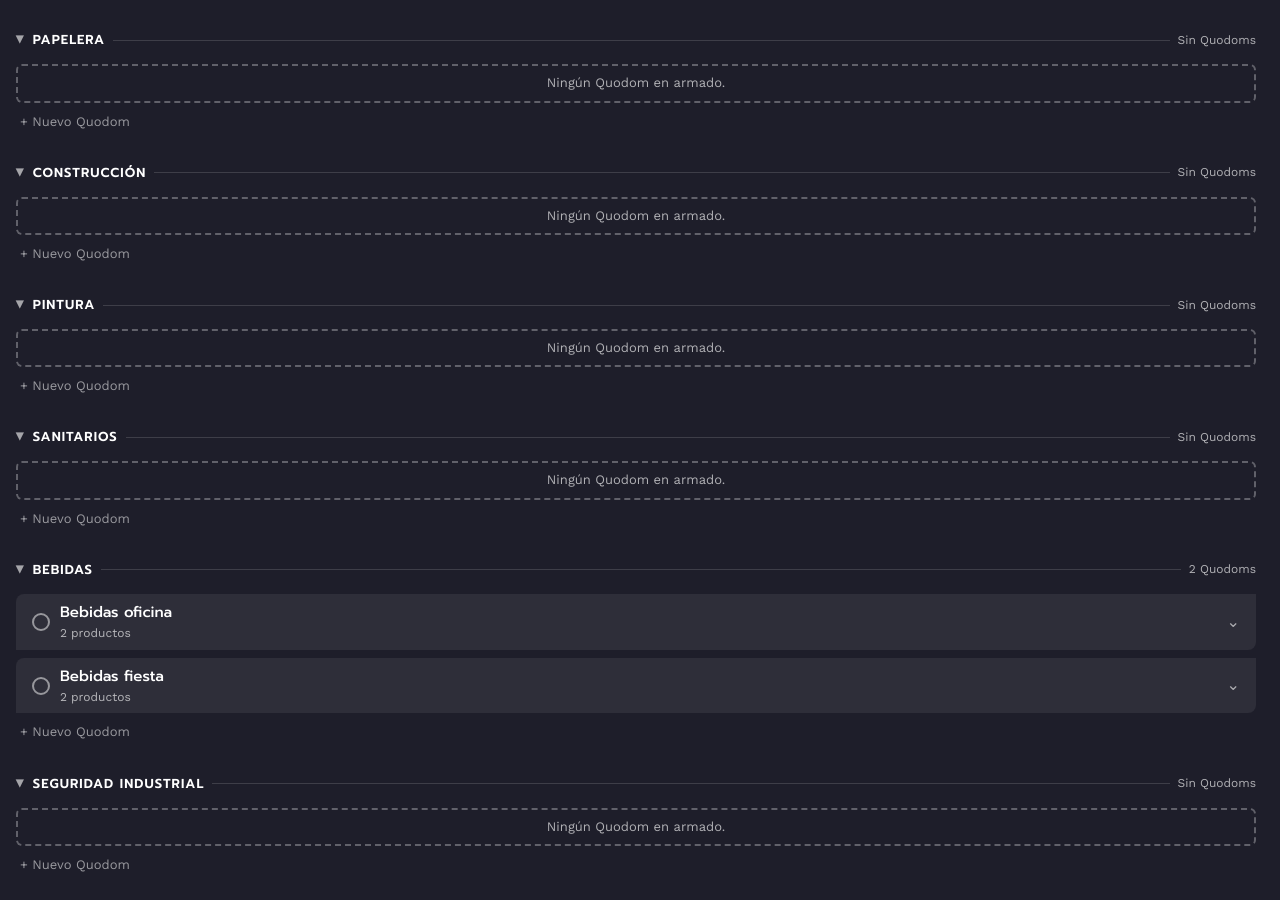
Test: sidebar: mini editor › abrir otro del mismo rubro cierra el anterior: cada rubro tiene un solo abierto
(page scrolled)
Step 1. Click the text "Bebidas oficina" → (116, 612), box [60,601,172,623]
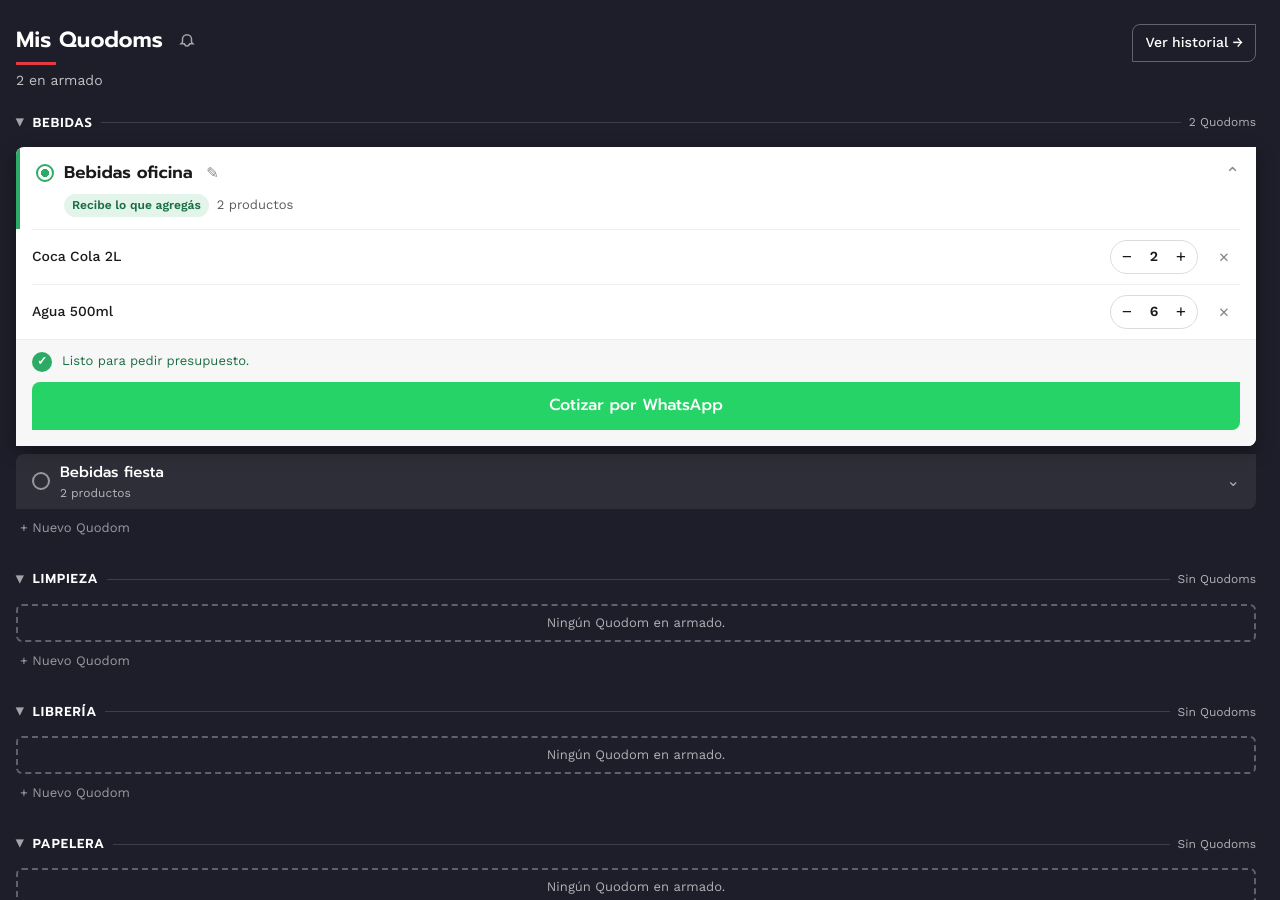
Result: the text "Coca Cola 2L" is shown at [32,248,121,266]
Step 2. Click the text "Bebidas fiesta" → (112, 472), box [60,461,164,483]
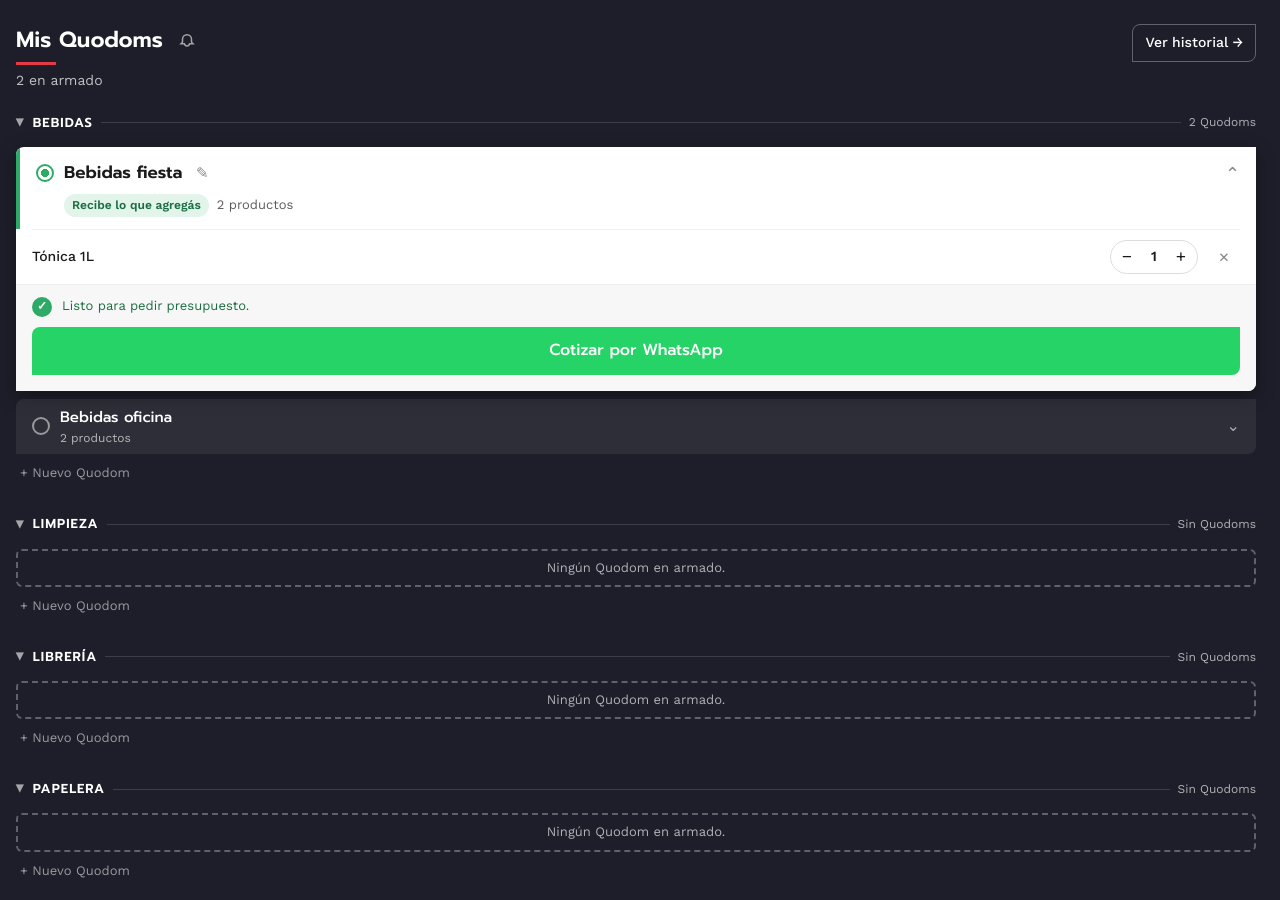
Result: the text "Tónica 1L" is shown at [32,248,94,266]
Result: the text "Coca Cola 2L" is gone
